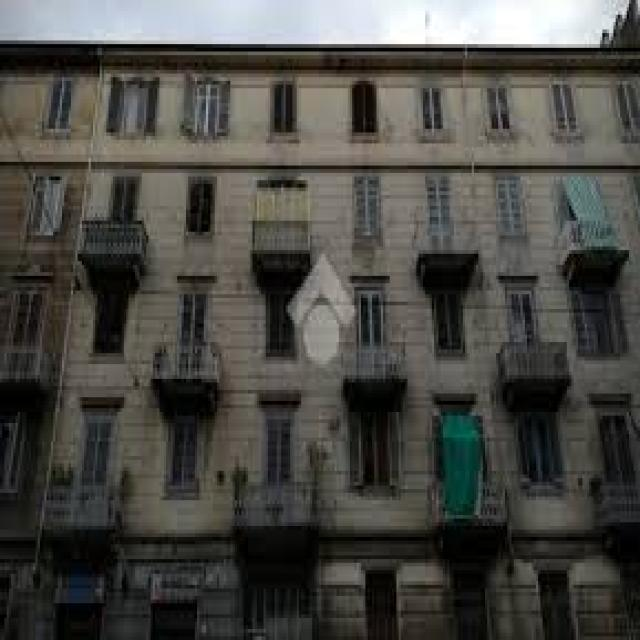window: (2, 283, 47, 386), (354, 408, 390, 493), (518, 416, 556, 493), (578, 290, 618, 360), (432, 294, 469, 364), (419, 169, 454, 239), (266, 290, 301, 360), (115, 81, 153, 140), (168, 412, 195, 493), (352, 173, 381, 243), (494, 180, 529, 236), (95, 294, 124, 360), (4, 408, 24, 501), (33, 173, 62, 232), (186, 173, 213, 235), (42, 78, 71, 132), (352, 84, 379, 140), (549, 84, 580, 132), (485, 85, 514, 136), (195, 78, 217, 144), (274, 77, 294, 129), (423, 89, 443, 132)
